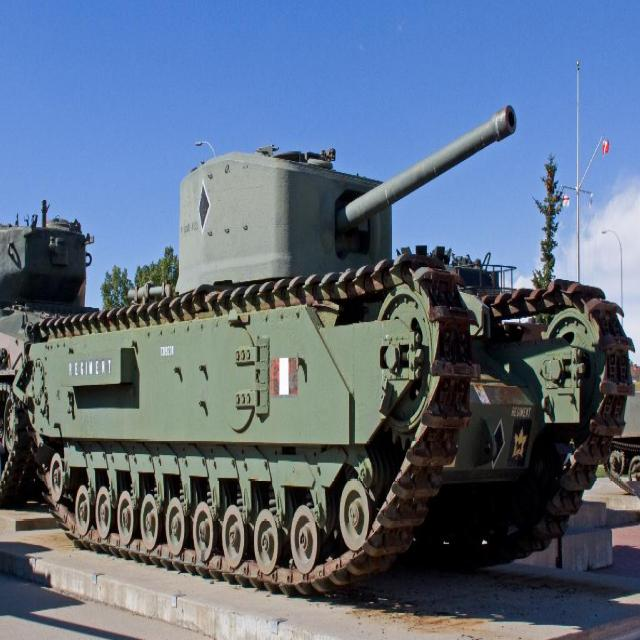tank: (12, 103, 636, 598), (0, 194, 105, 498), (606, 390, 639, 498)
